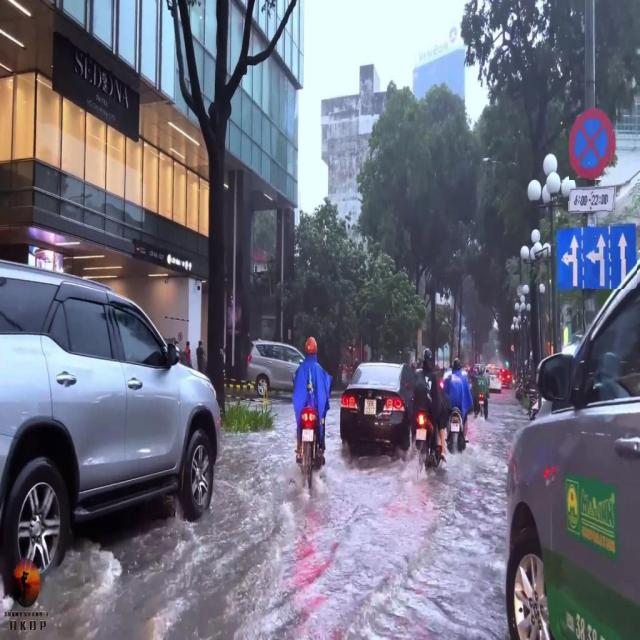cam_dung_xe_va_do_xe: (569, 108, 615, 180)
huong_di_tren_moi_lan_duong_theo_vach_ke_duong: (556, 224, 637, 289)
khac: (568, 187, 616, 212)
